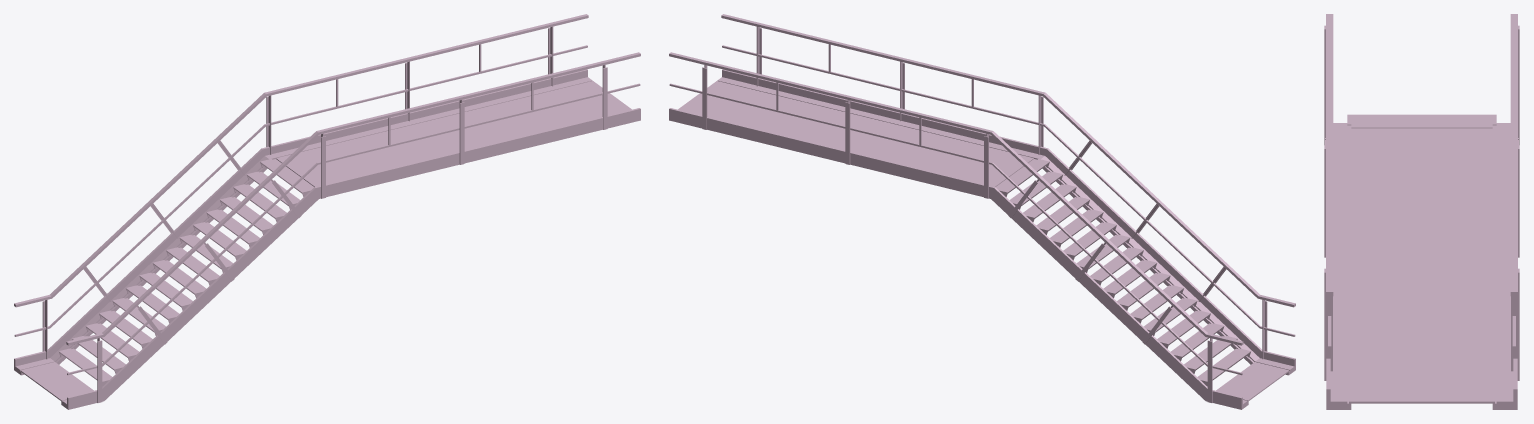
Rendered from catwalk-stairs.fbx.
3 views of the same model, side by side, from view 1: azimuth 30°, elevation 25°; view 2: azimuth 150°, elevation 25°; view 3: azimuth 270°, elevation 25° (orthographic). The views are drawn at different scales.
Parts seen in each view (by area): view 1: catwalk_fx_A_model; view 2: catwalk_fx_A_model; view 3: catwalk_fx_A_model.
Part boxes in pixels (<box>): catwalk_fx_A_model: <box>14,14,640,409</box>; catwalk_fx_A_model: <box>669,14,1295,409</box>; catwalk_fx_A_model: <box>1324,14,1519,409</box>.
Size of the model in its own units: 51200 by 18506 by 8550.
